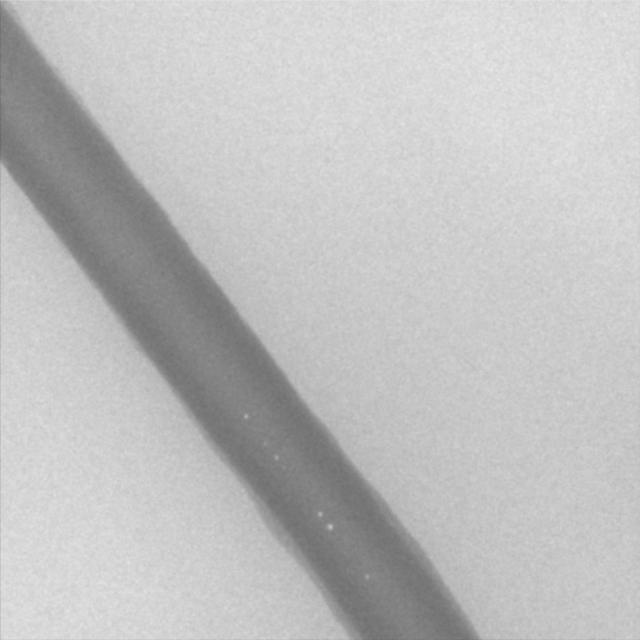air hole: (325, 521, 334, 532), (241, 410, 250, 420), (363, 571, 371, 581), (315, 507, 323, 517)
